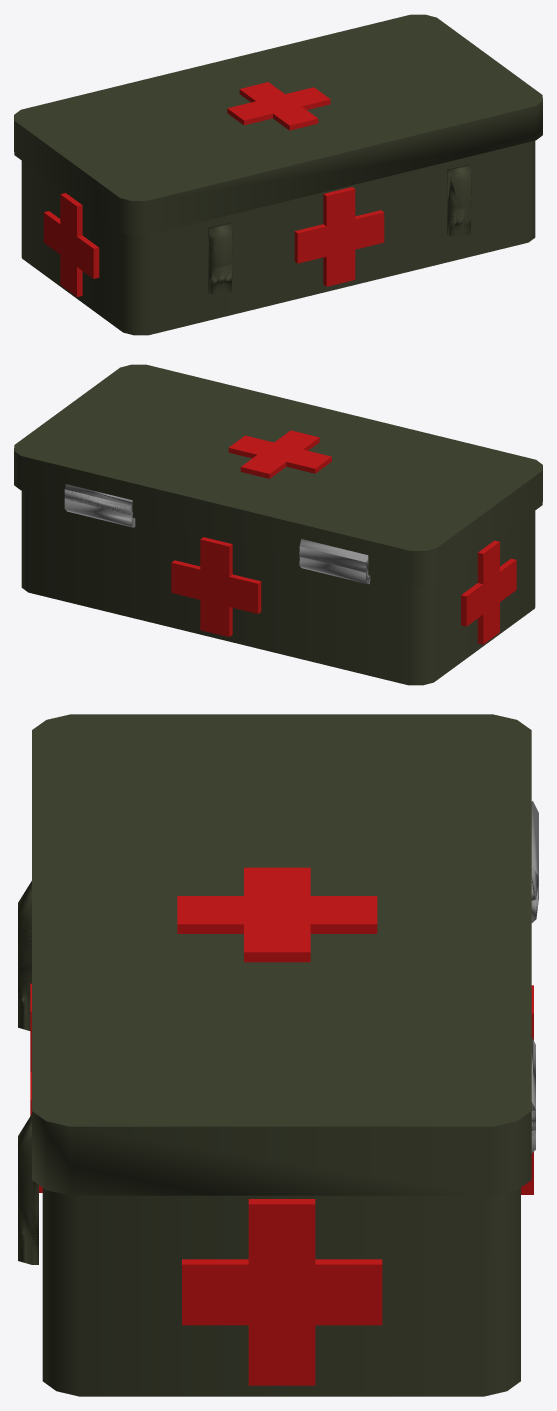
File: MedkitMaxwell.glb
3 renders of one model, top to bottom at view 1: azimuth 30°, elevation 25°; view 2: azimuth 150°, elevation 25°; view 3: azimuth 270°, elevation 25°, orthographic. The views are drawn at different scales.
Parts seen in each view (by area): view 1: Lid, Box, CrossFront, CrossLeft; view 2: Lid, Box, CrossBack, Hinges, CrossLeft; view 3: Lid, Box, CrossRight, Hinges.
Boxes of the visible parts, bbox=[...] form: Lid: bbox=[14, 14, 542, 235]; Box: bbox=[21, 140, 535, 335]; CrossFront: bbox=[294, 187, 384, 286]; CrossLeft: bbox=[43, 193, 99, 296]; Lid: bbox=[14, 364, 542, 585]; Box: bbox=[21, 490, 535, 685]; CrossBack: bbox=[171, 537, 261, 636]; Hinges: bbox=[64, 484, 370, 584]; CrossLeft: bbox=[461, 540, 516, 644]; Lid: bbox=[32, 714, 531, 1195]; Box: bbox=[18, 881, 520, 1396]; CrossRight: bbox=[182, 1199, 382, 1385]; Hinges: bbox=[531, 801, 538, 1153].
Size of the model in its own units: 0.4123 by 0.1327 by 0.2201.
